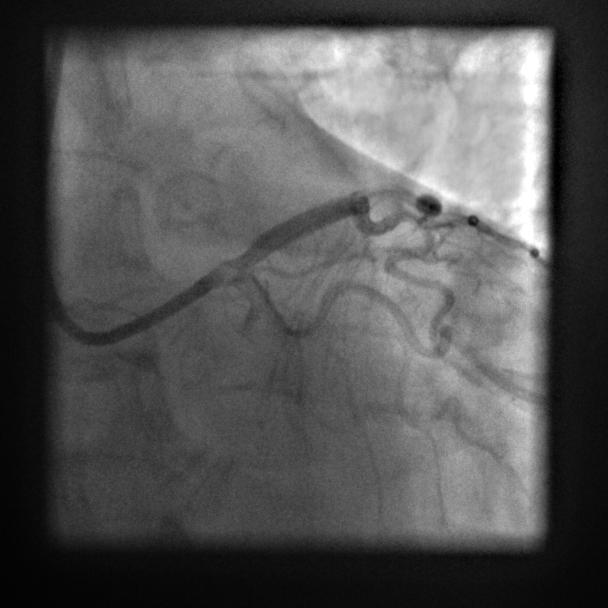Stenosis: (234, 239, 263, 274)
